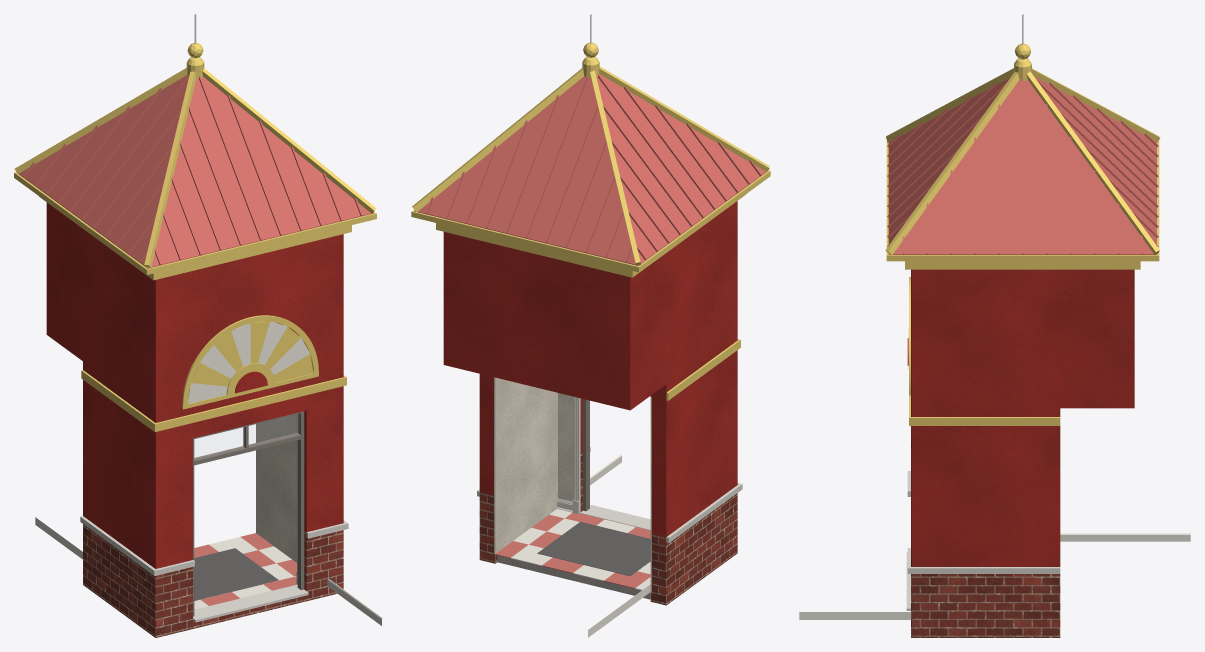
The model's file is tower.glb.
The picture shows the model from 3 angles, left to right: view 1: azimuth 30°, elevation 25°; view 2: azimuth 150°, elevation 25°; view 3: azimuth 270°, elevation 25°; orthographic projection. The views are drawn at different scales.
Visible parts, largest first — view 1: tower_red, tower_redm, tower_accent, tower_brick, tower_plaster, tower_trim, tower_frame, tower_cill, tower_dark, tower_glass, tower_tile_r, tower_tile_w; view 2: tower_red, tower_redm, tower_plaster, tower_accent, tower_brick, tower_dark, tower_tile_r, tower_tile_w, tower_cill, tower_concrete, molduras, tower_trim (+1 smaller); view 3: tower_red, tower_redm, tower_accent, tower_brick, tower_trim, tower_cill.
Part boxes in pixels (left/top/right/bottom): tower_red: left=46, top=202, right=343, bottom=568; tower_redm: left=19, top=75, right=373, bottom=268; tower_accent: left=14, top=43, right=376, bottom=431; tower_brick: left=83, top=524, right=343, bottom=637; tower_plaster: left=256, top=414, right=297, bottom=584; tower_trim: left=35, top=321, right=382, bottom=625; tower_frame: left=193, top=411, right=304, bottom=616; tower_cill: left=80, top=516, right=348, bottom=622; tower_dark: left=194, top=548, right=278, bottom=600; tower_glass: left=195, top=414, right=298, bottom=458; tower_tile_r: left=194, top=533, right=296, bottom=605; tower_tile_w: left=194, top=537, right=296, bottom=609; tower_red: left=443, top=201, right=737, bottom=536; tower_redm: left=414, top=74, right=765, bottom=265; tower_plaster: left=494, top=377, right=651, bottom=591; tower_accent: left=411, top=42, right=770, bottom=400; tower_brick: left=479, top=453, right=737, bottom=605; tower_dark: left=537, top=522, right=650, bottom=576; tower_tile_r: left=495, top=512, right=650, bottom=588; tower_tile_w: left=511, top=509, right=650, bottom=592; tower_cill: left=477, top=447, right=742, bottom=542; tower_concrete: left=497, top=555, right=650, bottom=599; molduras: left=557, top=397, right=579, bottom=513; tower_trim: left=588, top=454, right=650, bottom=637; tower_red: left=907, top=269, right=1134, bottom=566; tower_redm: left=887, top=76, right=1158, bottom=254; tower_accent: left=885, top=43, right=1160, bottom=425; tower_brick: left=911, top=574, right=1060, bottom=637; tower_trim: left=799, top=533, right=1190, bottom=619; tower_cill: left=906, top=471, right=1060, bottom=610.
Size of the model in its own units: 3.69 by 8.53 by 5.25.
16 materials, 4 textured.
